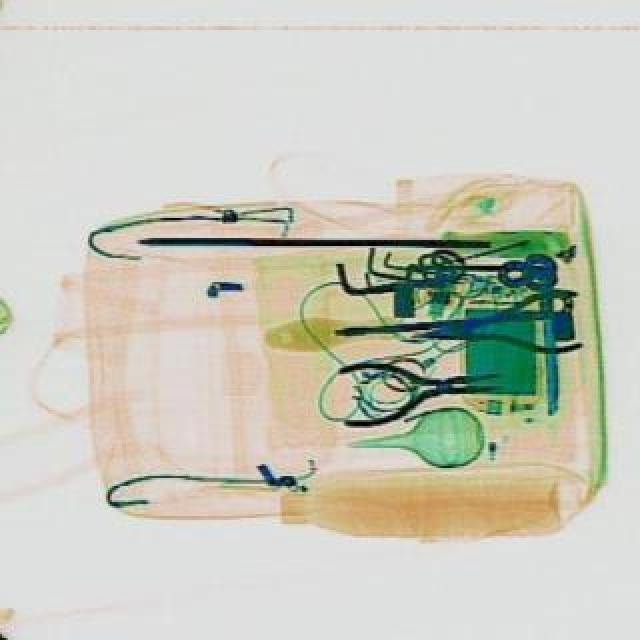wrench: (332, 348, 500, 428), (410, 288, 580, 362)
